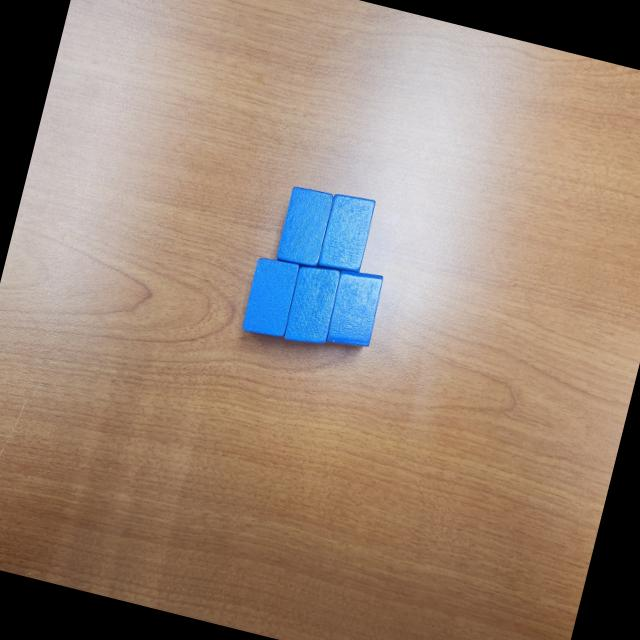blue: (272, 180, 336, 272), (280, 261, 344, 351), (322, 265, 387, 353), (239, 253, 302, 343), (315, 190, 378, 278)
